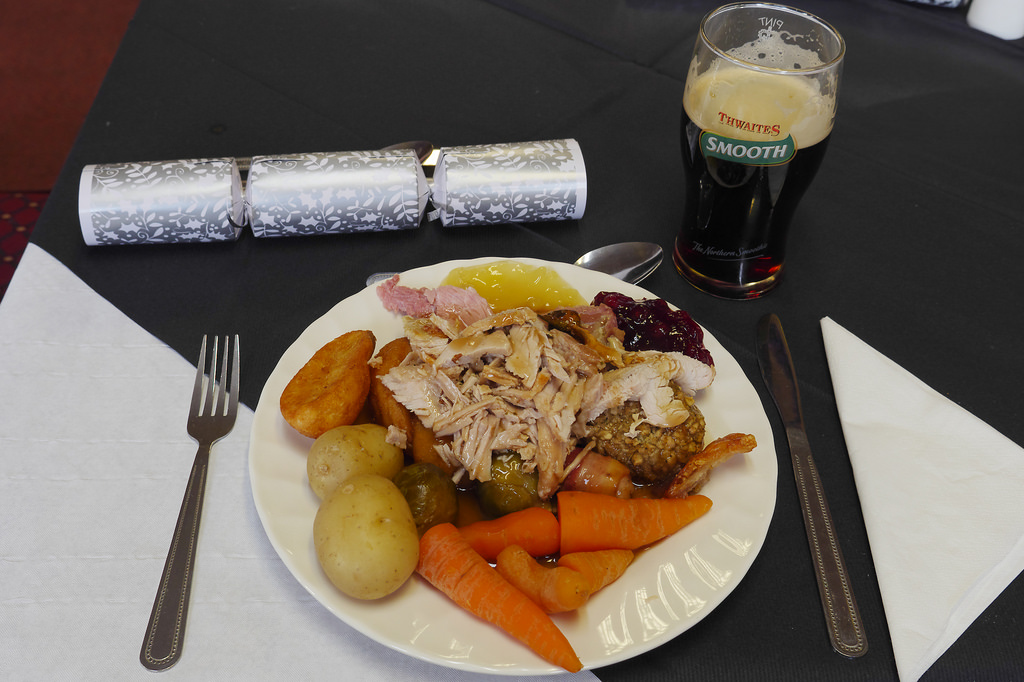boiled potatoes: (310, 486, 416, 606), (301, 419, 403, 489)
